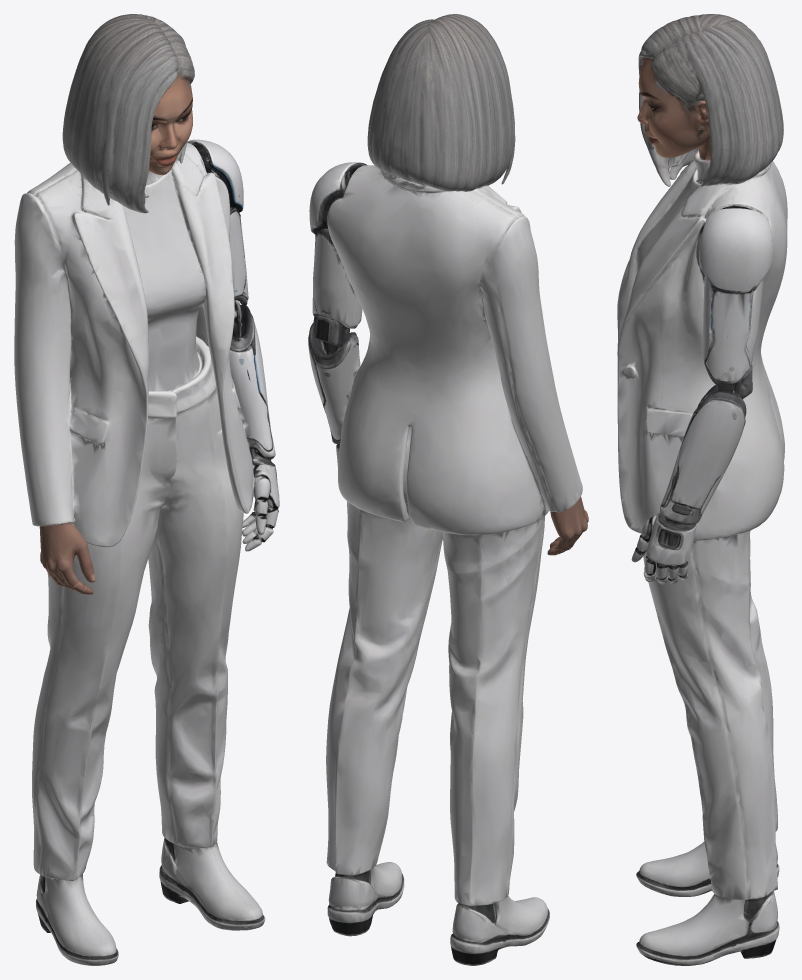
Rendered from maxine-ref.glb.
3 renders of one model, left to right at view 1: azimuth 30°, elevation 25°; view 2: azimuth 150°, elevation 25°; view 3: azimuth 270°, elevation 25°, orthographic.
Size of the model in its own units: 0.5304 by 1.9 by 0.3267.
Materials: 1 (1 with a texture image).
